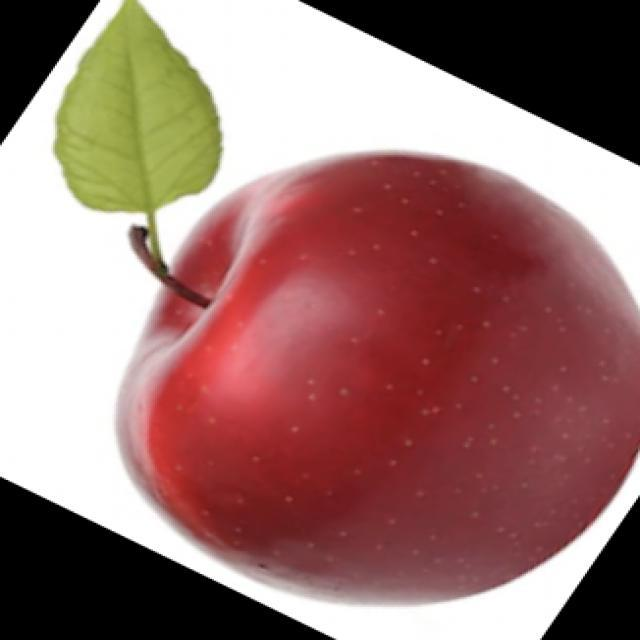Fresh Apple: (106, 144, 636, 634)
